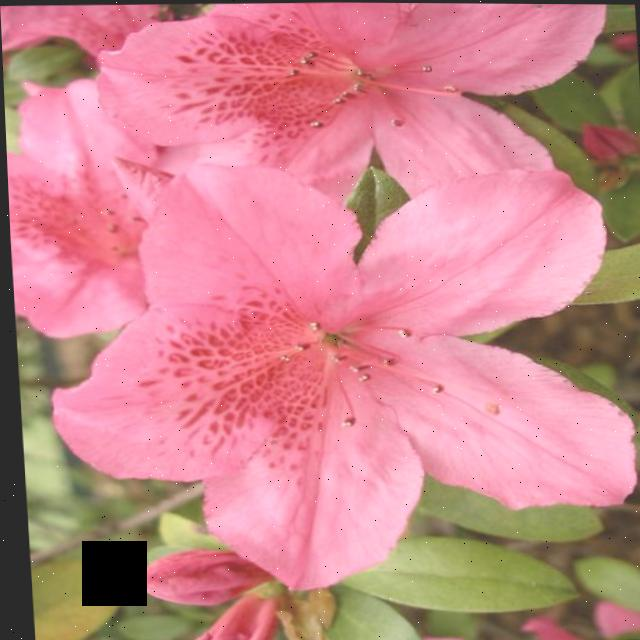azalea: (68, 170, 640, 556), (67, 0, 629, 217)
